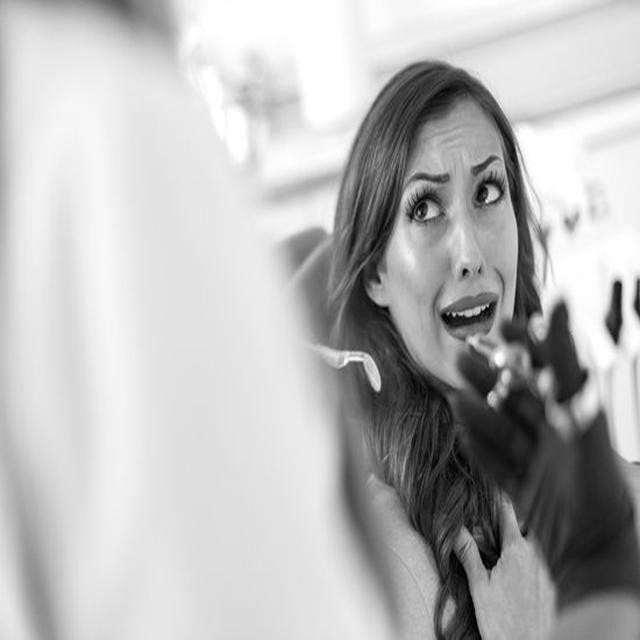Fear: (392, 98, 518, 393)
